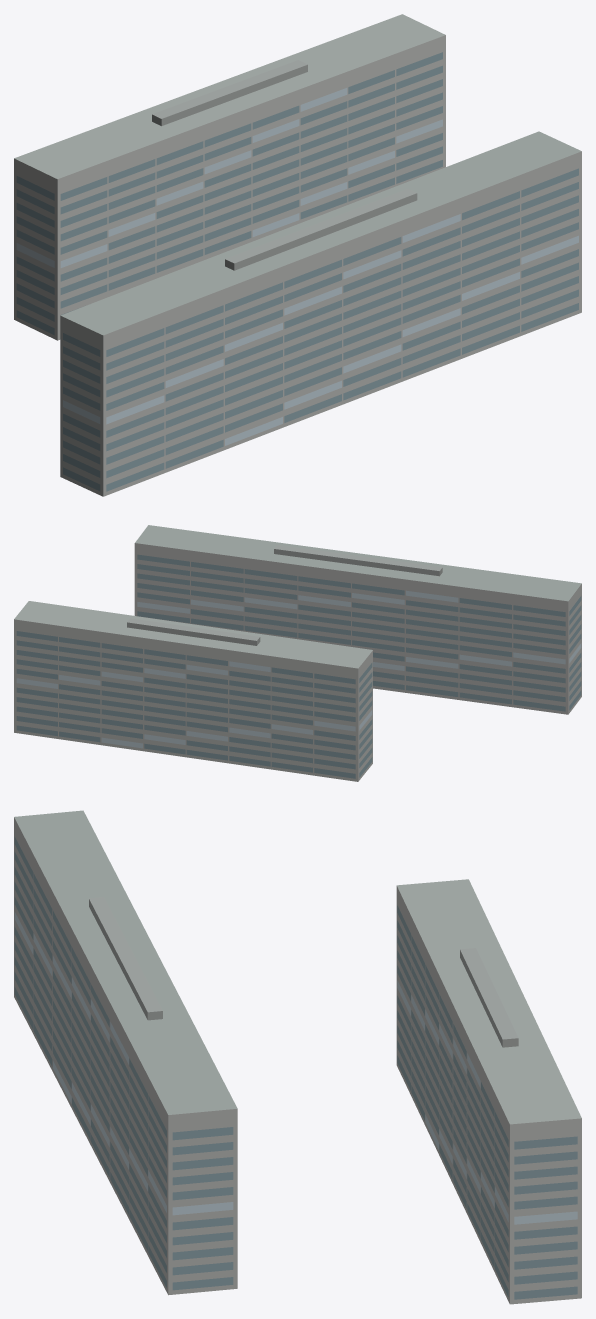
File: apt-a14003101.glb
The picture shows the model from 3 angles, top to bottom: view 1: azimuth 30°, elevation 25°; view 2: azimuth 150°, elevation 25°; view 3: azimuth 270°, elevation 25°; orthographic projection. The views are drawn at different scales.
Parts seen in each view (by area): view 1: apt-a14003101; view 2: apt-a14003101; view 3: apt-a14003101.
Boxes of the visible parts, <box> form: apt-a14003101: <box>14,14,581,496</box>; apt-a14003101: <box>14,525,581,781</box>; apt-a14003101: <box>14,810,581,1304</box>.
Bounding box in the file's own units: 137 × 38.25 × 105.
